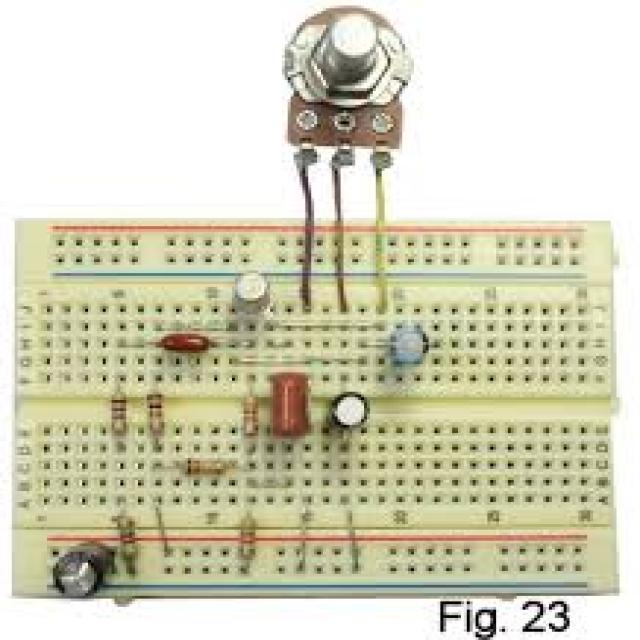Capacitor Electrolitico: (113, 509, 141, 564), (144, 388, 170, 440), (108, 388, 130, 440), (184, 454, 227, 478), (239, 512, 259, 562), (240, 390, 258, 438)
